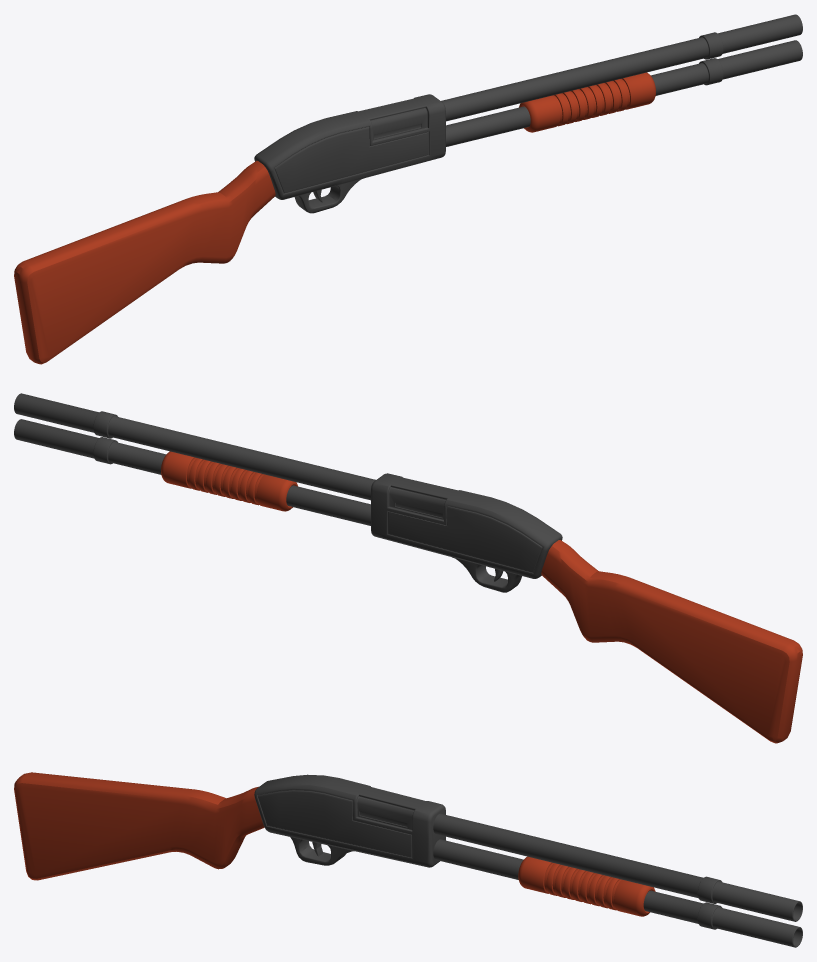
The model's file is shotgun2.fbx.
The picture shows the model from 3 angles, top to bottom: view 1: azimuth 30°, elevation 25°; view 2: azimuth 150°, elevation 25°; view 3: azimuth 330°, elevation 25°; orthographic projection.
Parts seen in each view (by area): view 1: Cube.028, Cylinder.008; view 2: Cube.028, Cylinder.008; view 3: Cube.028, Cylinder.008.
Boxes of the visible parts, bbox=[...] form: Cube.028: bbox=[14, 14, 802, 364]; Cylinder.008: bbox=[519, 72, 655, 132]; Cube.028: bbox=[14, 393, 802, 743]; Cylinder.008: bbox=[161, 451, 297, 511]; Cube.028: bbox=[14, 772, 802, 947]; Cylinder.008: bbox=[518, 856, 655, 916].
Bounding box in the file's own units: 317 × 65.25 × 12.16.
Materials: 2 (2 with a texture image).
